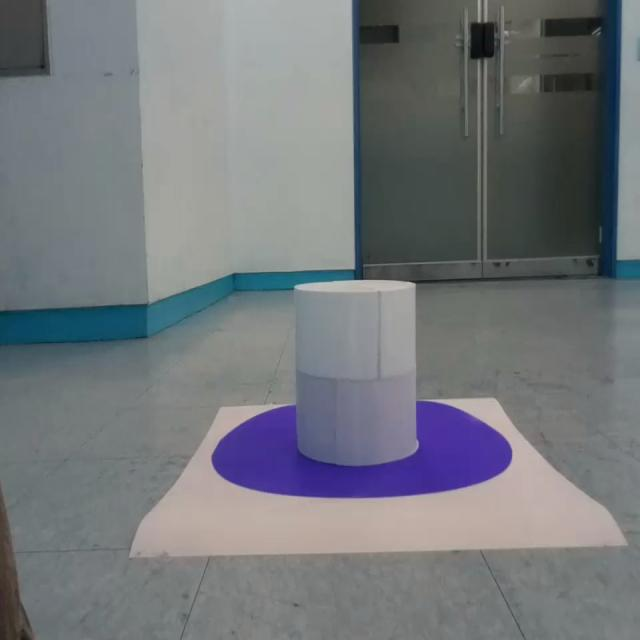cylinder: (294, 279, 416, 467)
